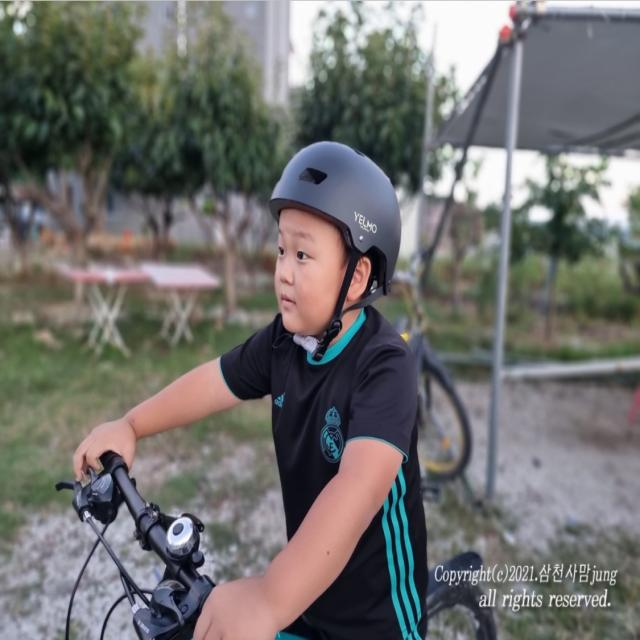Helmet: (271, 139, 402, 333)
